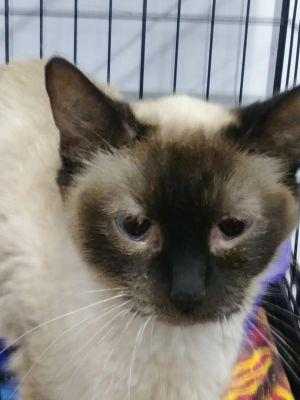siamese: (34, 49, 300, 345)
